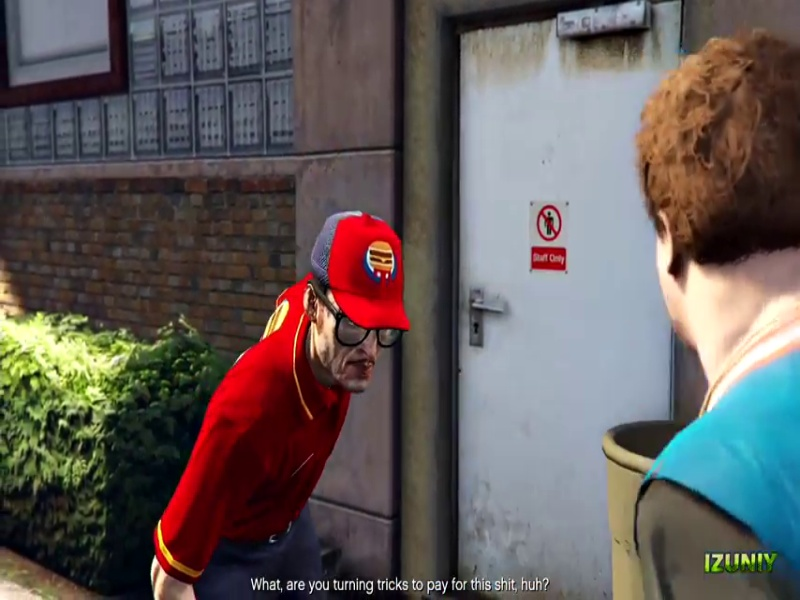human: (133, 210, 407, 600)
